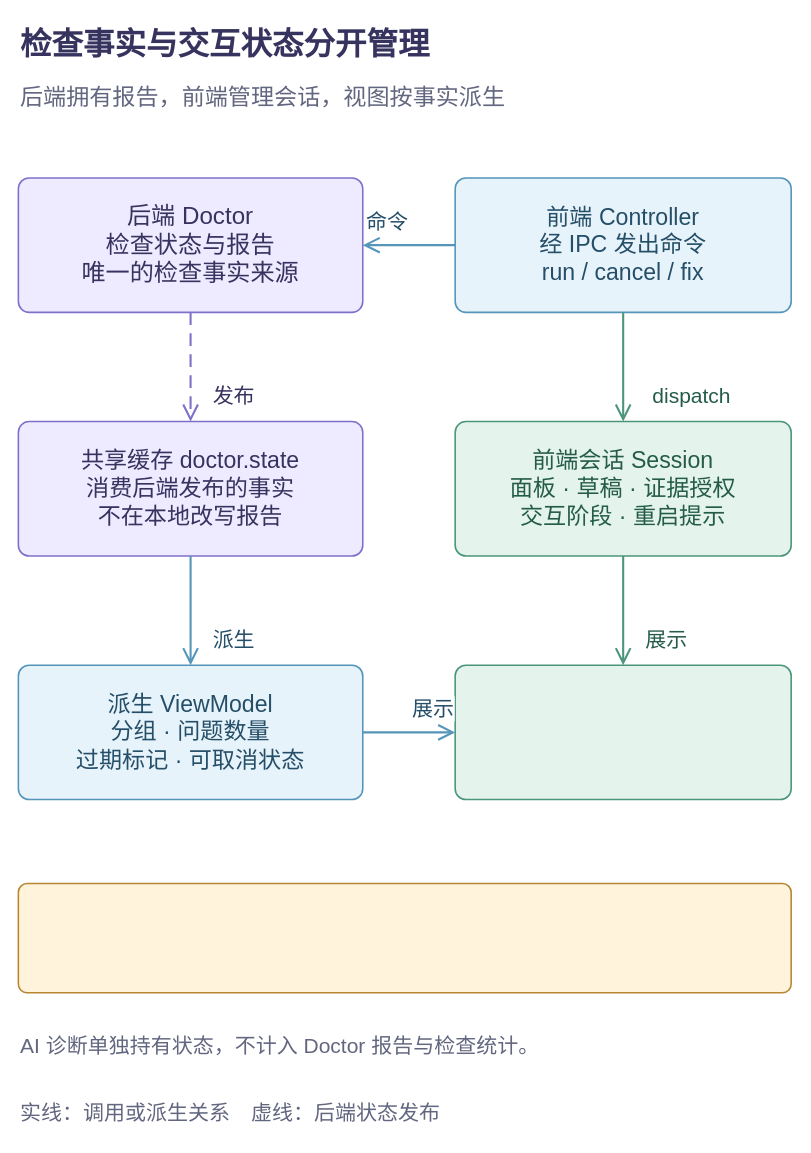
Some shapes in this 811 by 1153 pixel diagram are drawn without their labels. Here are the shapes that lost their labels. From the top down, the centre of each, then its label:
pixel 622 732: Doctor 界面 展示报告与交互状态 用户操作交给 Controller
pixel 404 937: 修复返回成功 ≠ 检查报告已经更新 操作返回可触发提示；检查结果等待后端发布。
